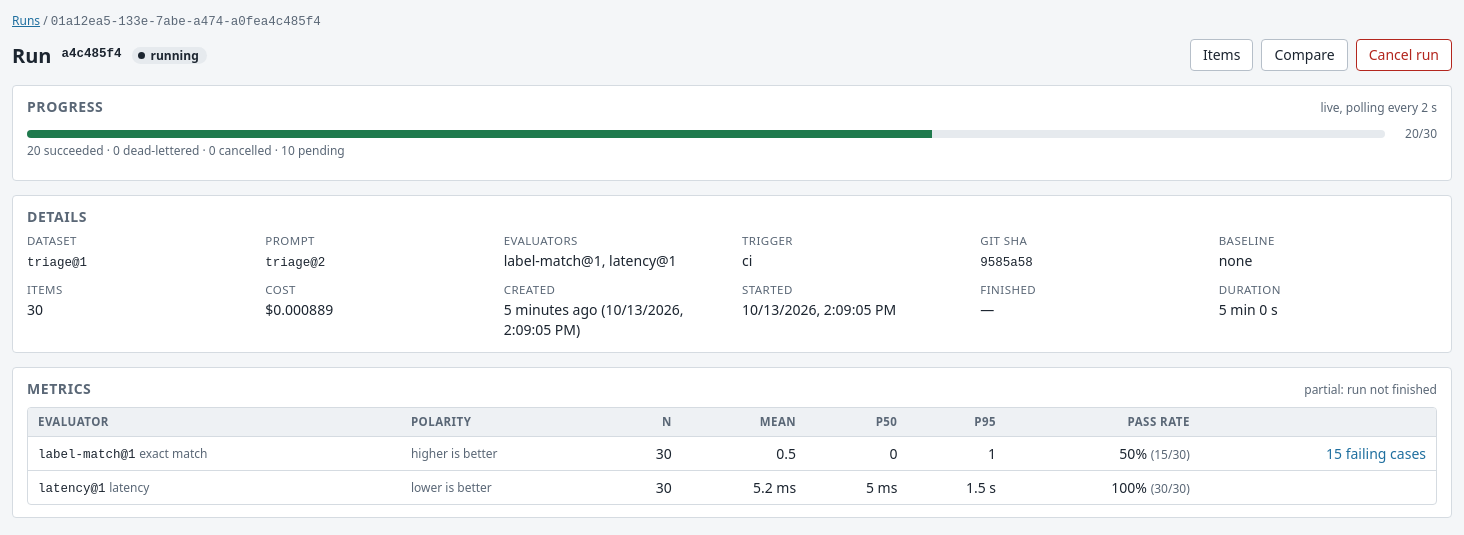
Test case: RunDetailPage › offers cancel for an active run and posts to the cancel endpoint
Check: the text "live, polling every 2 s" is shown, box x1=1320 y1=99 x2=1437 y2=117
Click the button "Cancel run".
click(1404, 55)  # box x1=1356 y1=39 x2=1452 y2=71
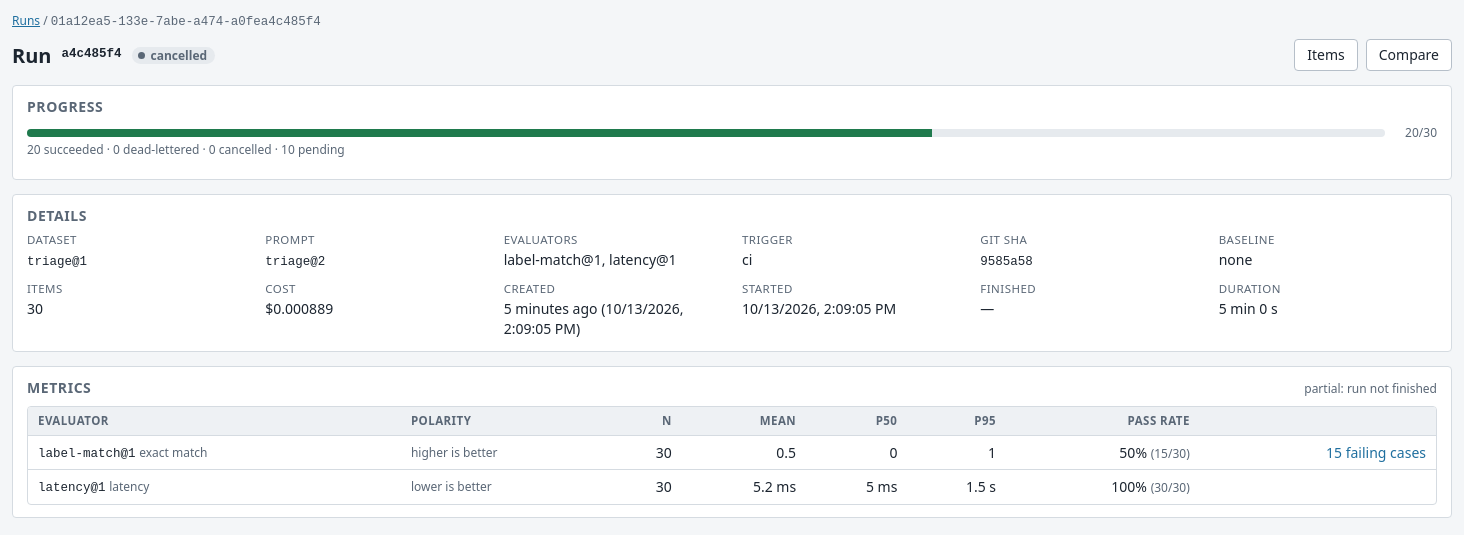
Check: the text "cancelled" is shown, box x1=132 y1=47 x2=215 y2=64
